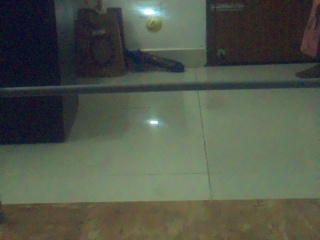ball: (146, 17, 161, 31)
